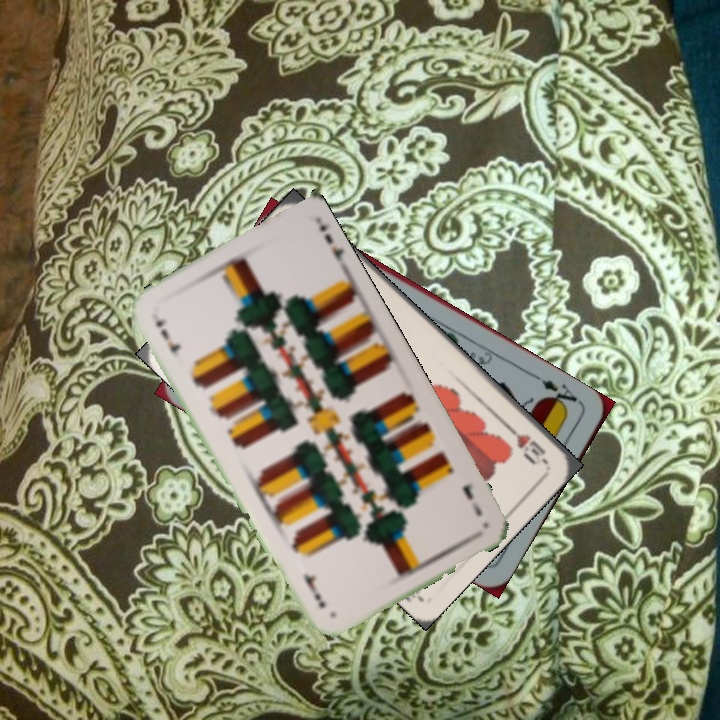E7: (151, 314, 184, 360), (458, 479, 485, 519)
EA: (531, 371, 584, 414)
H10: (502, 420, 550, 466)
